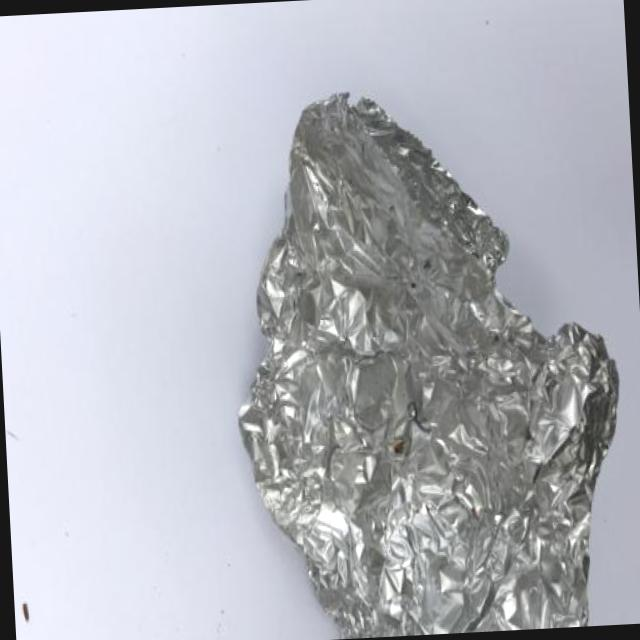kim_loai: (239, 94, 620, 639)
